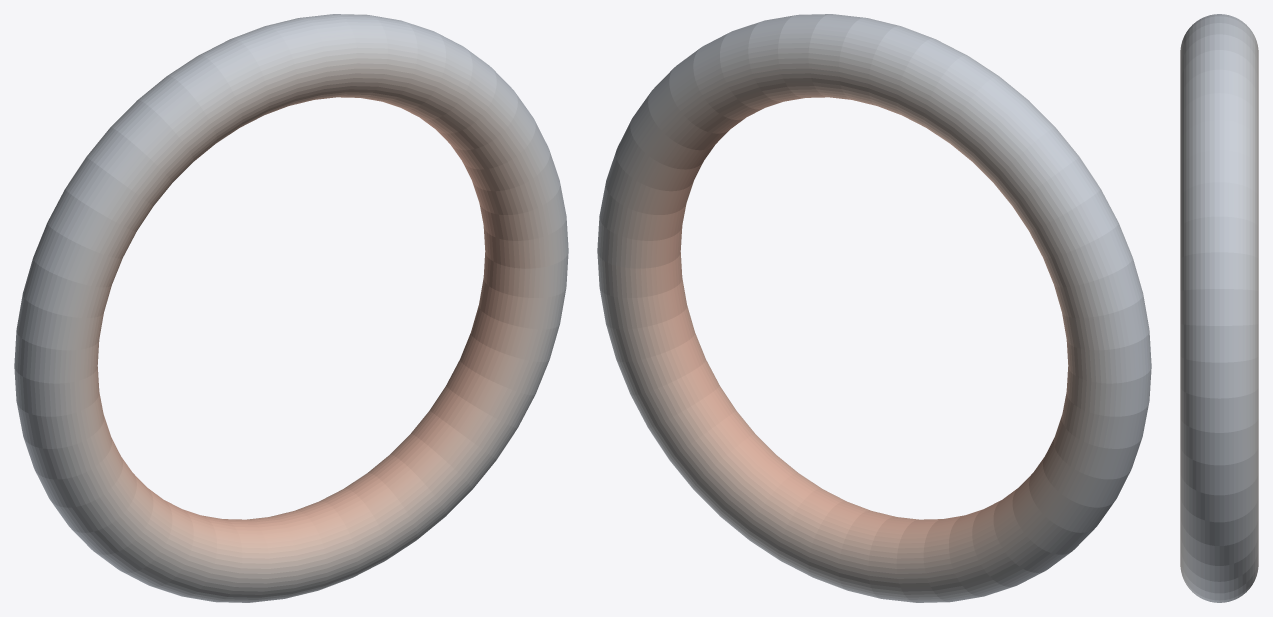
3 views of the same model, side by side, from view 1: azimuth 30°, elevation 25°; view 2: azimuth 150°, elevation 25°; view 3: azimuth 270°, elevation 25° (orthographic). The views are drawn at different scales.
Parts seen in each view (by area): view 1: world; view 2: world; view 3: world.
Part boxes in pixels (bbox=[...]): world: bbox=[14, 14, 568, 602]; world: bbox=[597, 14, 1151, 602]; world: bbox=[1180, 14, 1258, 602].
Bounding box in the file's own units: 33.07 × 33 × 4.39.
